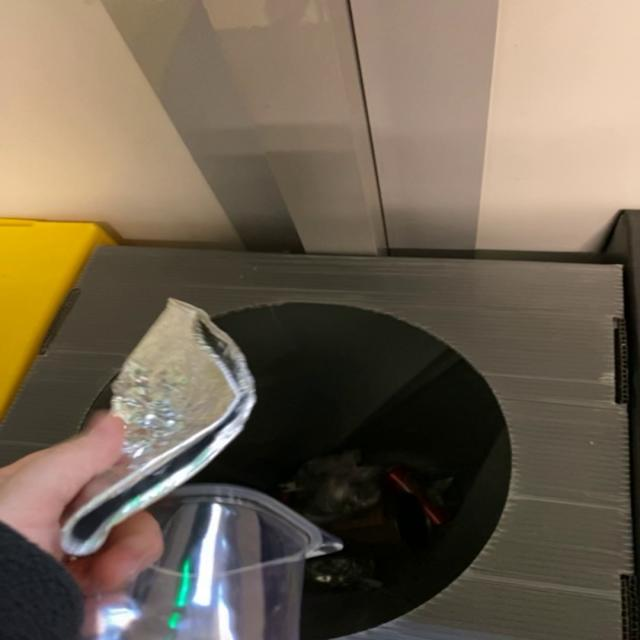bin: (1, 246, 636, 640)
metal: (59, 298, 254, 556)
